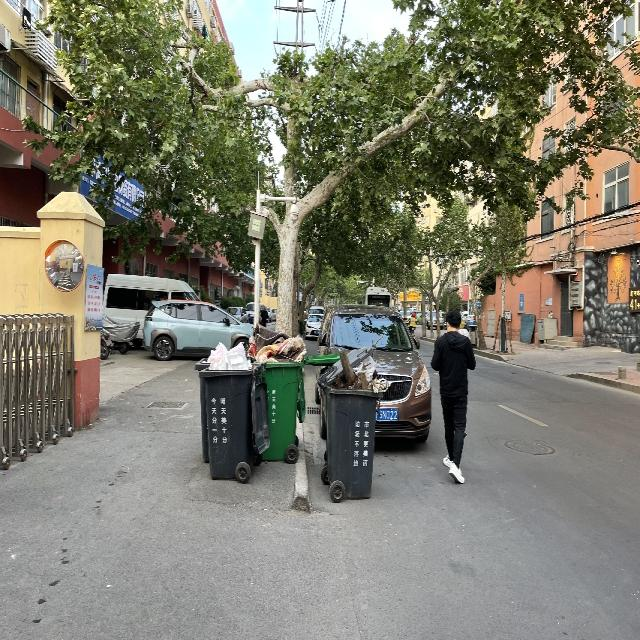overflow: (318, 345, 387, 498), (193, 340, 256, 478), (250, 324, 307, 459)
